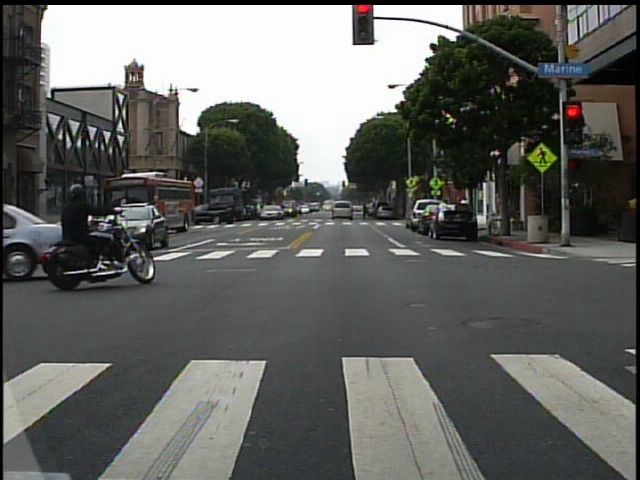person: (45, 178, 129, 289)
